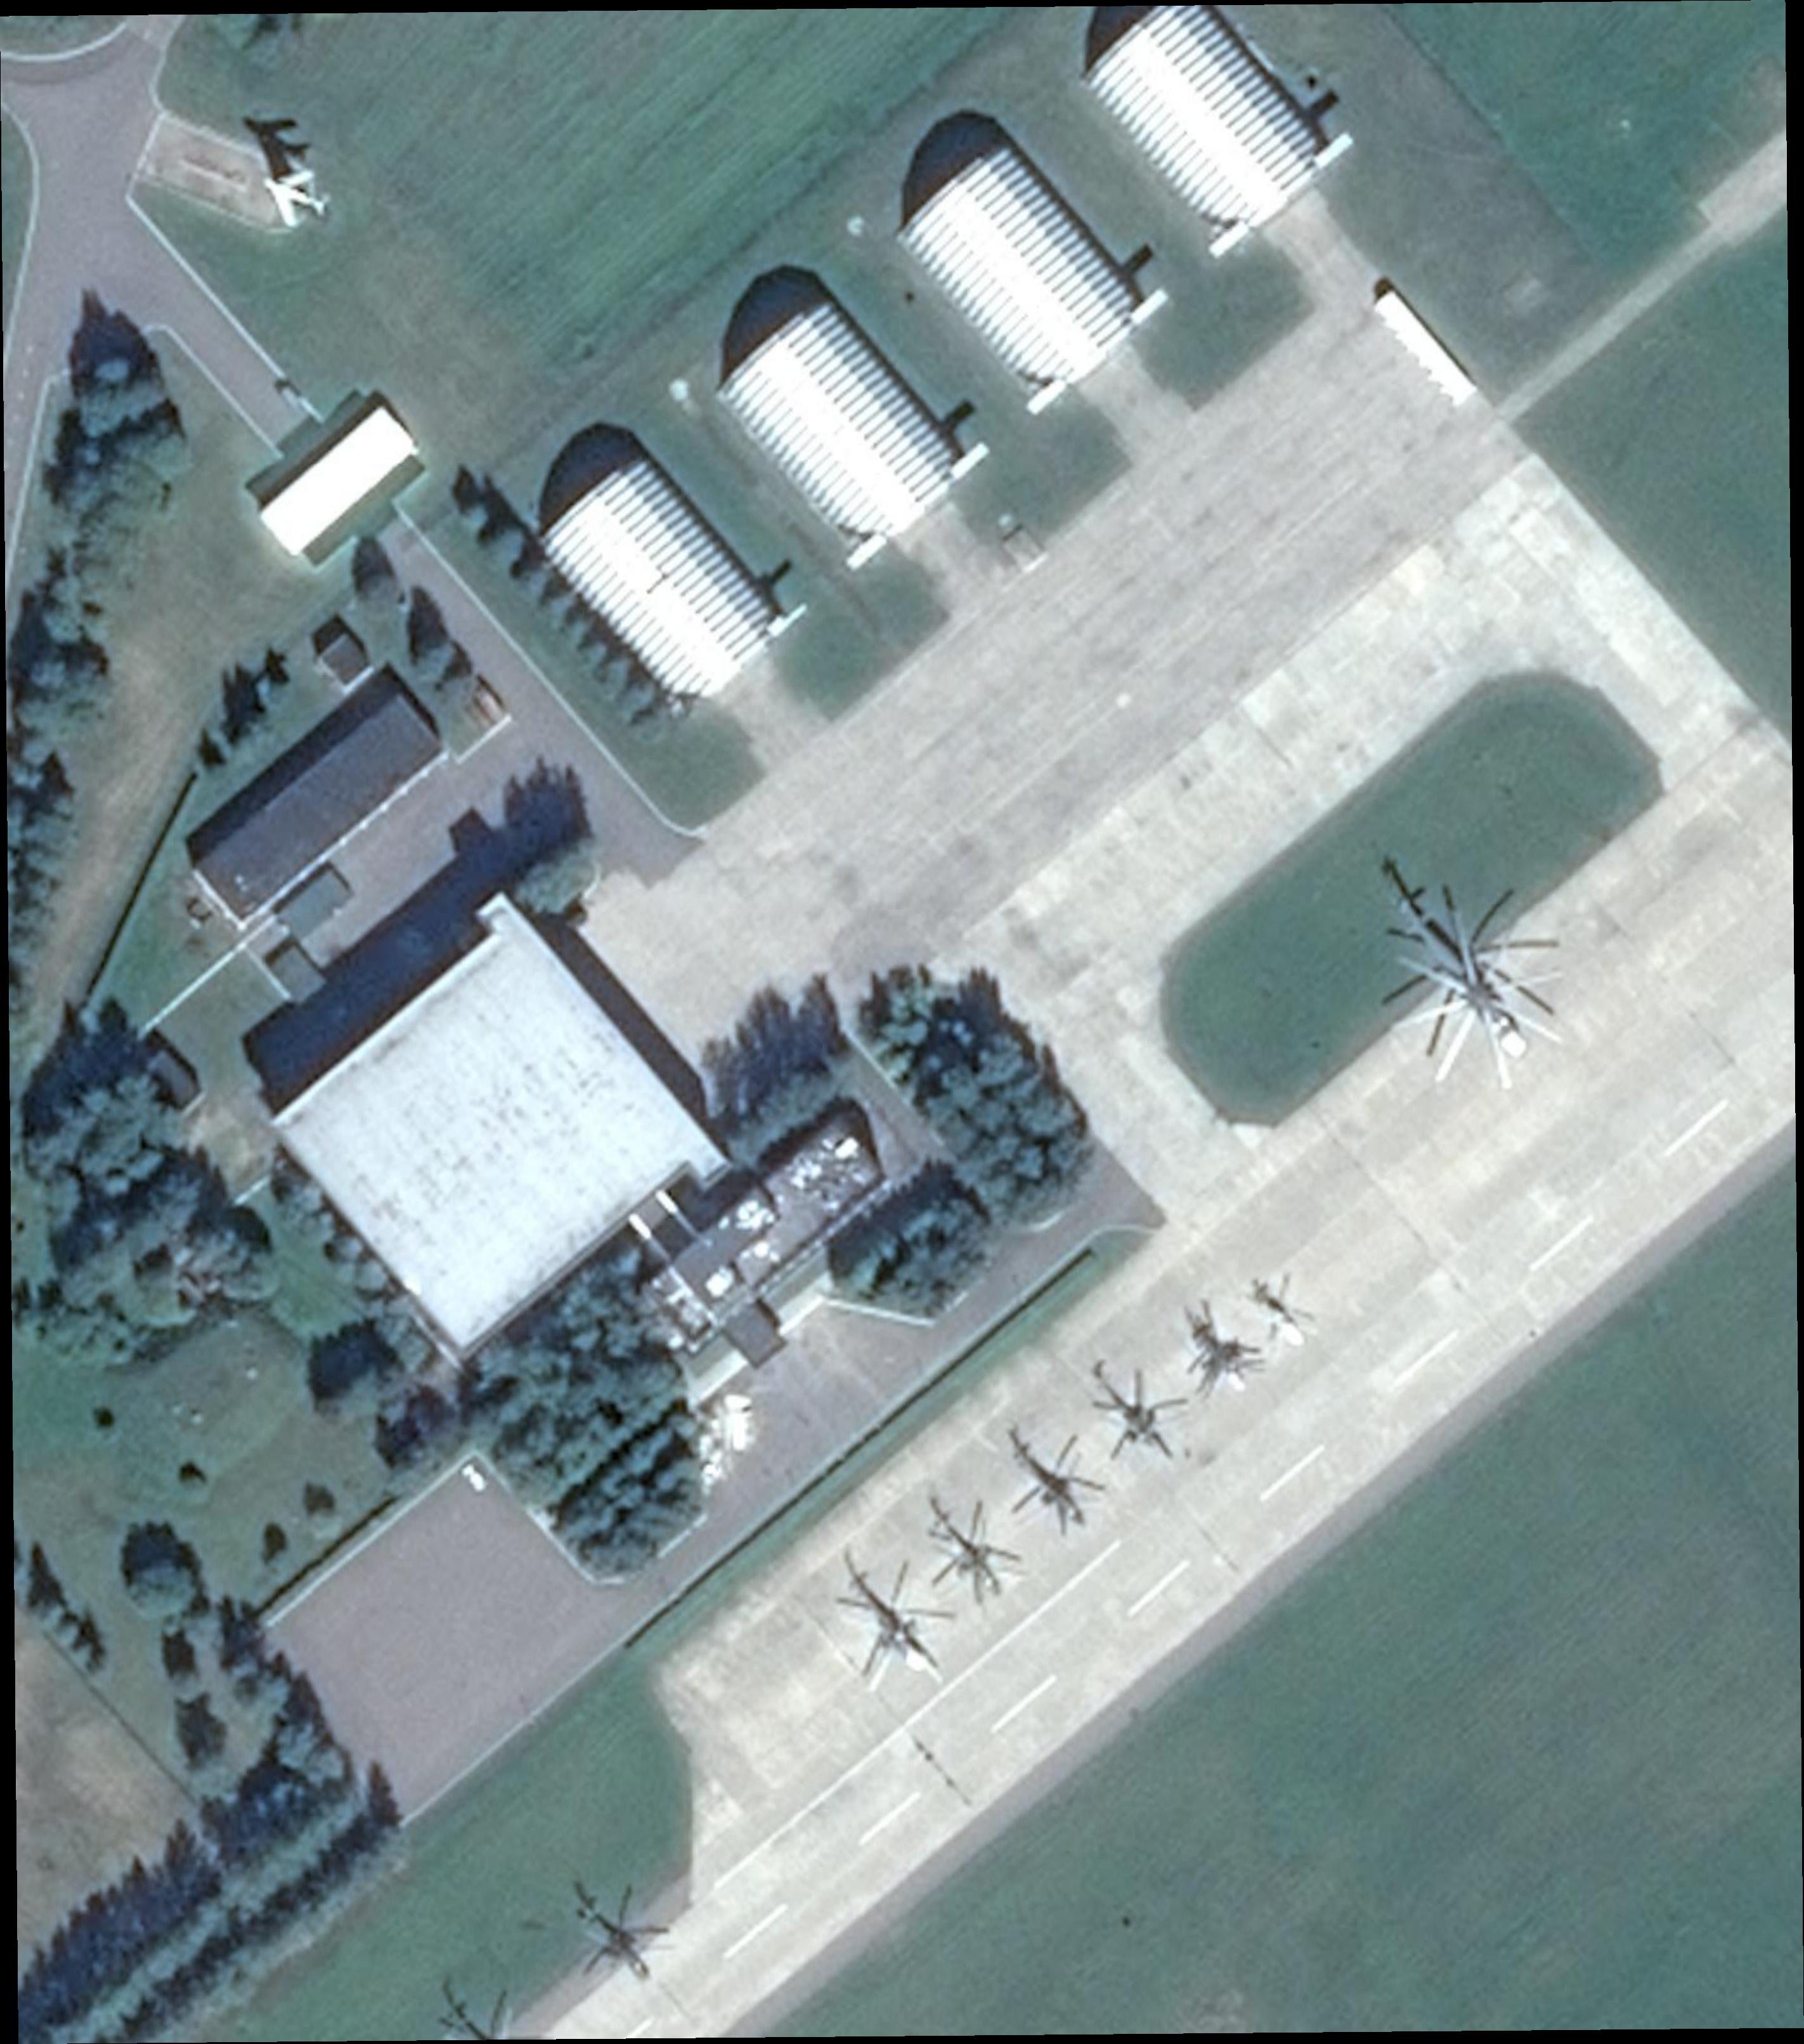plane: (246, 153, 345, 249)
